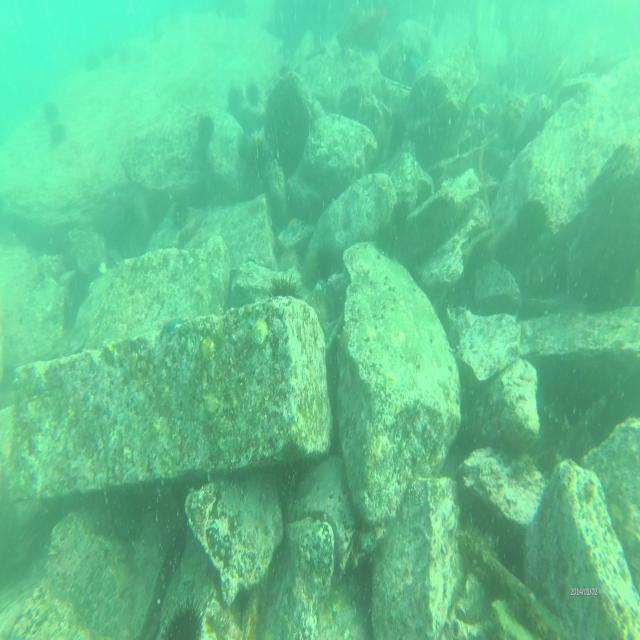echinus: (156, 588, 206, 640), (265, 267, 304, 308), (171, 193, 191, 234), (236, 128, 258, 165), (198, 112, 216, 152), (46, 120, 68, 149), (82, 46, 100, 77), (225, 82, 243, 113), (246, 78, 262, 110), (41, 98, 59, 123), (150, 20, 164, 51), (117, 42, 130, 72), (100, 35, 114, 62), (169, 5, 183, 30)
scallop: (250, 316, 270, 347), (199, 333, 215, 366)
starfish: (156, 312, 188, 339)
